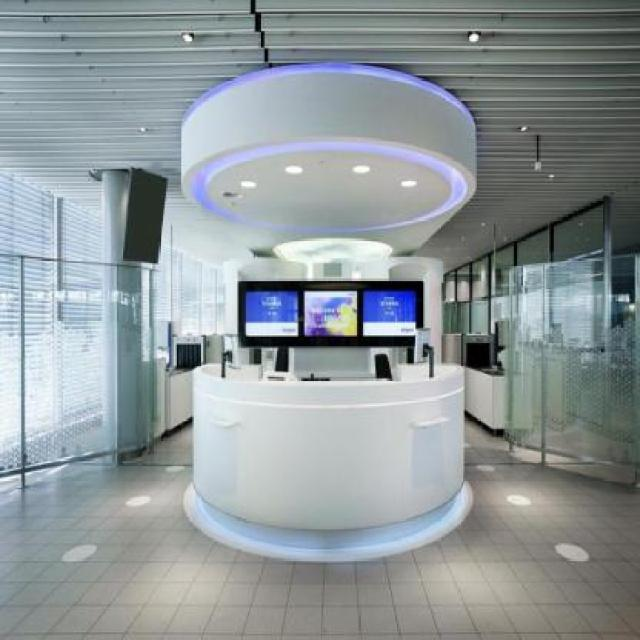frontdesk: (178, 349, 478, 572)
